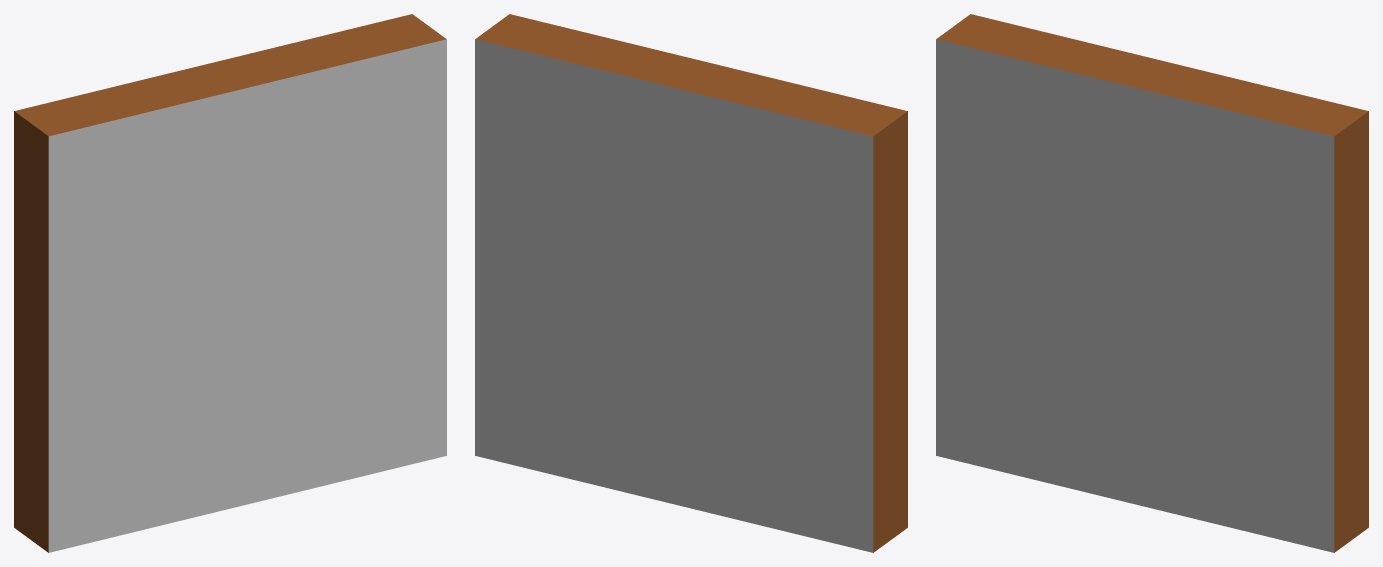
File: room2.obj
The picture shows the model from 3 angles, left to right: view 1: azimuth 30°, elevation 25°; view 2: azimuth 150°, elevation 25°; view 3: azimuth 330°, elevation 25°; orthographic projection.
Parts seen in each view (by area): view 1: mywall; view 2: mywall; view 3: mywall.
Boxes of the visible parts, bbox=[...] form: mywall: bbox=[14, 14, 446, 552]; mywall: bbox=[475, 14, 907, 552]; mywall: bbox=[936, 14, 1368, 552].
Size of the model in its own units: 19.99 by 19.98 by 3.
